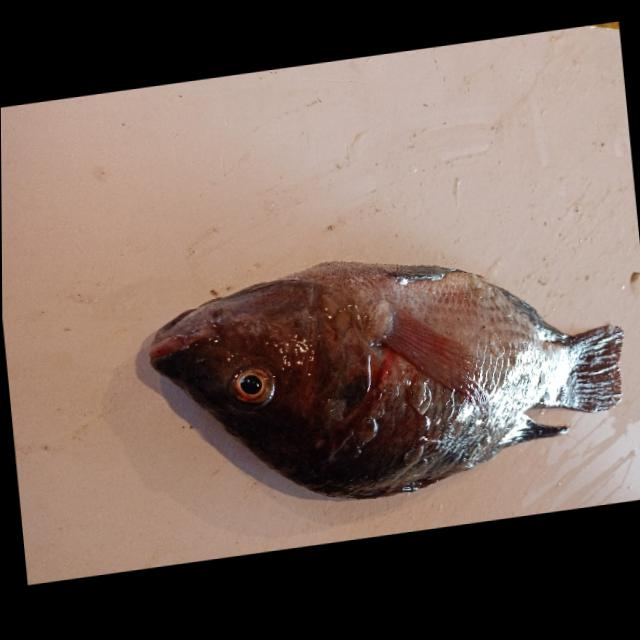Tilapia: (140, 222, 631, 528)
